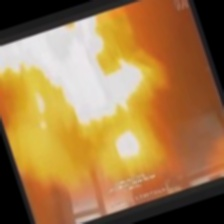fire: (0, 0, 202, 213)
